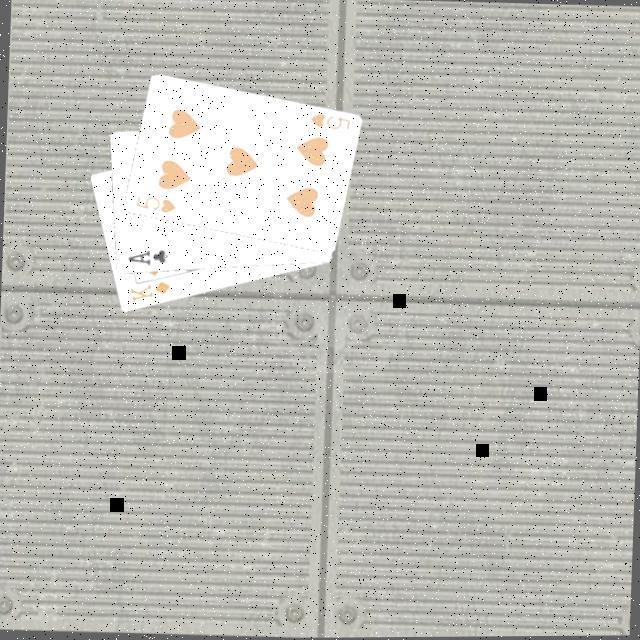5H: (308, 111, 356, 136), (134, 194, 180, 218)
AC: (126, 247, 172, 271)
KD: (128, 278, 176, 308)
